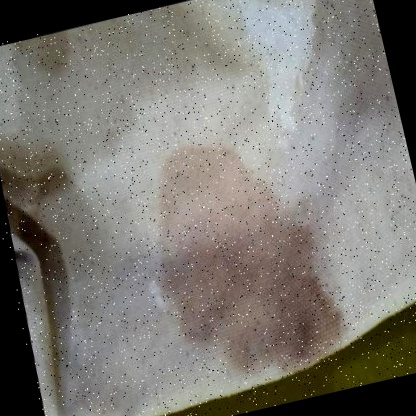coffee: (172, 190, 308, 352)
